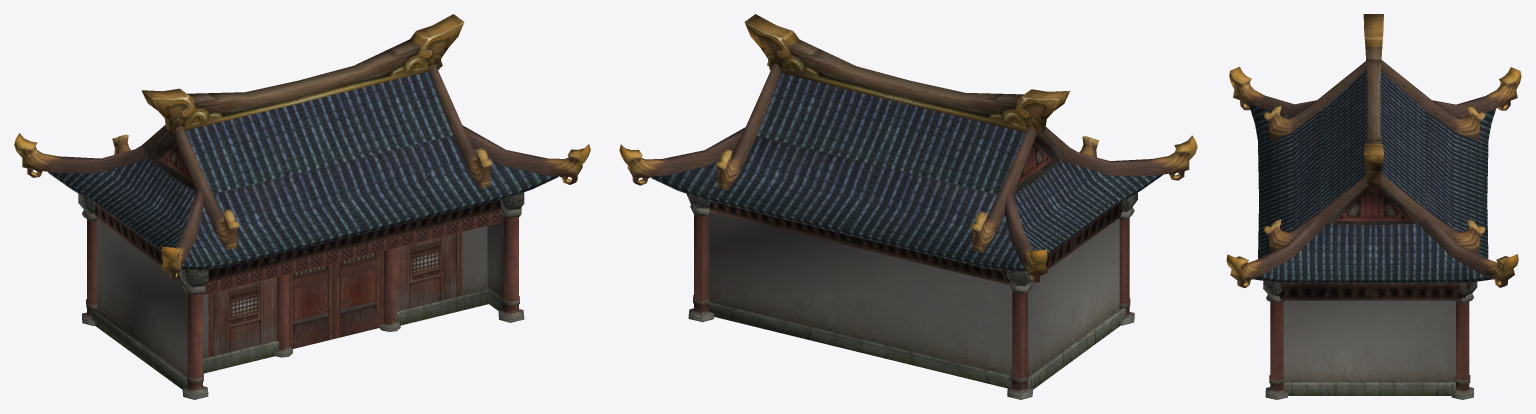
The model's file is SC_ZGFfangzi01.FBX.
3 views of the same model, side by side, from view 1: azimuth 30°, elevation 25°; view 2: azimuth 150°, elevation 25°; view 3: azimuth 270°, elevation 25° (orthographic). The views are drawn at different scales.
Parts seen in each view (by area): view 1: SC_ZGFfangzi01; view 2: SC_ZGFfangzi01; view 3: SC_ZGFfangzi01.
Part boxes in pixels (x1,y1,x2,y2): SC_ZGFfangzi01: (14,14,590,399); SC_ZGFfangzi01: (619,14,1197,399); SC_ZGFfangzi01: (1226,14,1521,399).
Bounding box in the file's own units: 1691 × 984 × 1096.
